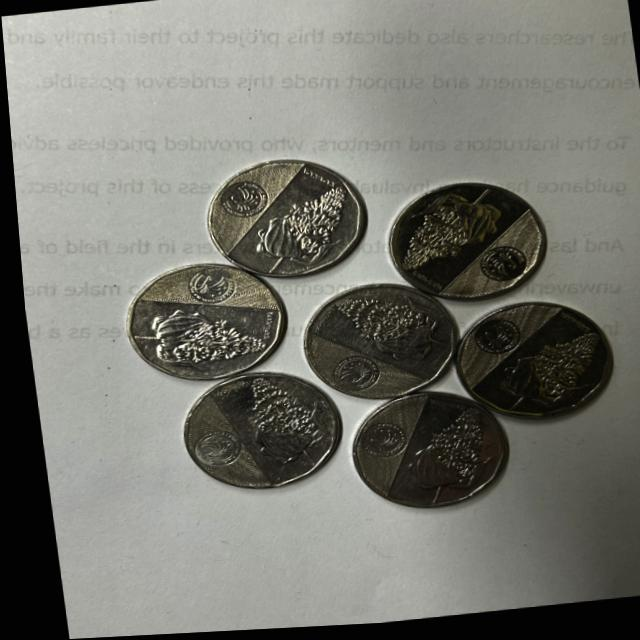10_New_Back: (462, 320, 607, 419), (379, 185, 521, 274), (237, 182, 359, 274), (311, 286, 446, 368), (125, 311, 277, 380), (234, 375, 320, 474), (398, 425, 495, 510)
